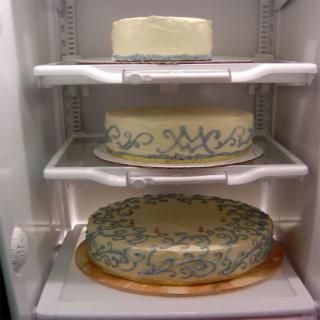Cake: (86, 192, 278, 286), (101, 104, 254, 164), (112, 14, 211, 62)
